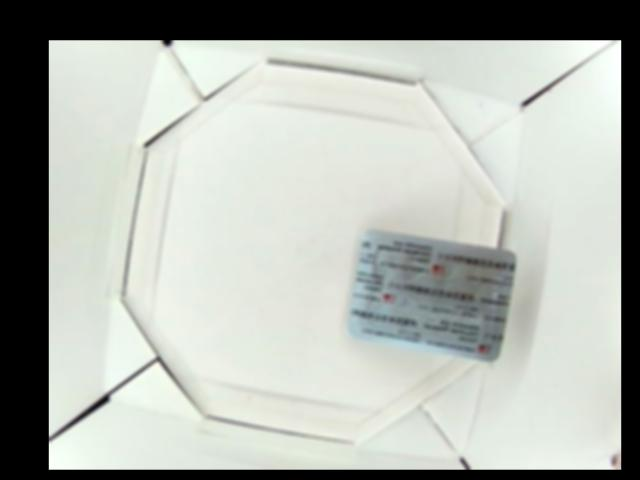Medicine: (347, 229, 518, 363)
